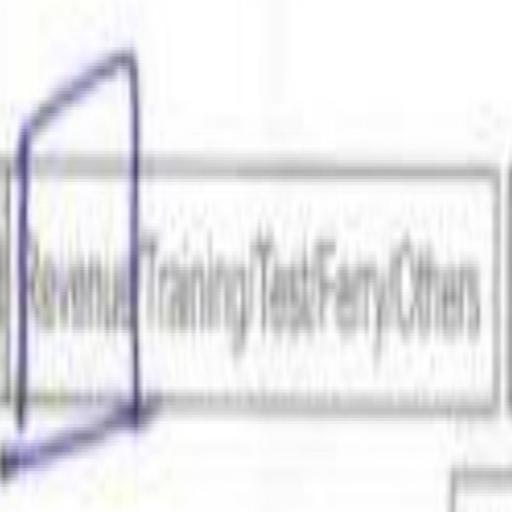check: (11, 47, 139, 475)
